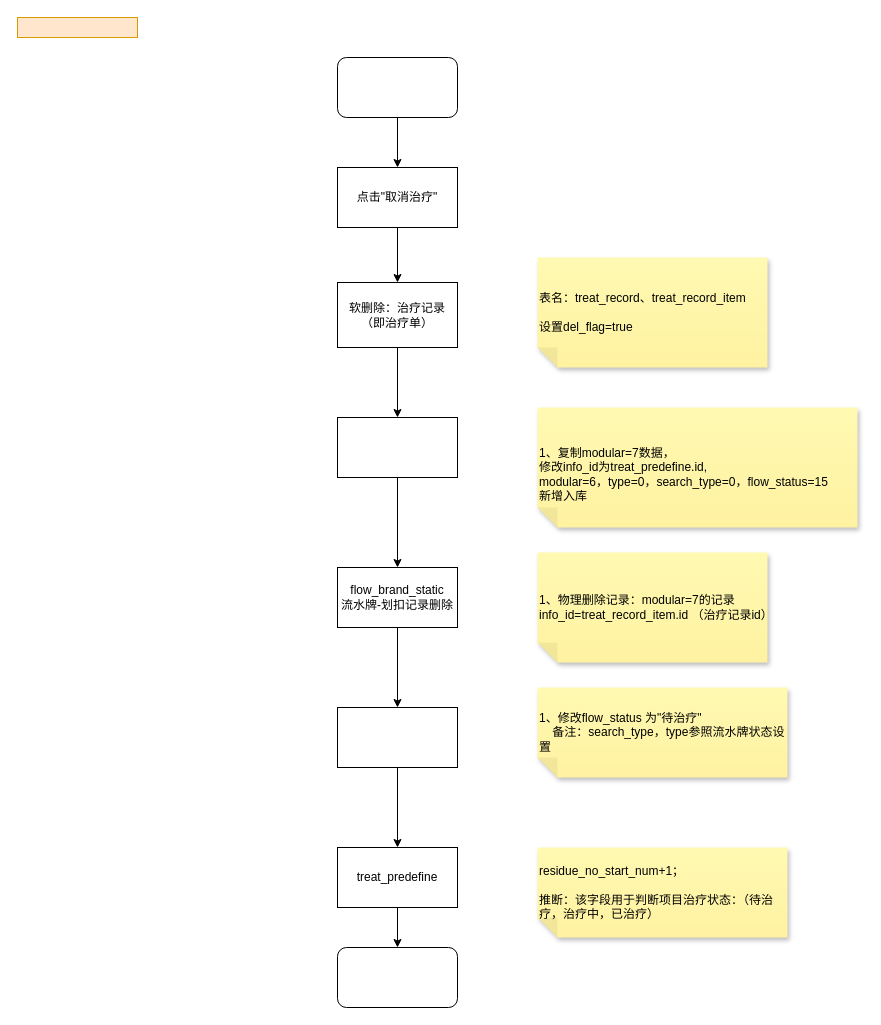
Image size: 881x1025. Some labels were removed from this diagram. The centre of each missing label's shape, as x and y in pixels:
flow_brand_static 批量修改今日接待产生的流水牌状态: the point at 397,737
flow_brand_static 流水牌-治疗新增一条 modular=6 记录: the point at 397,447
开始: the point at 397,87
点击"取消治疗"流程: the point at 77,27
结束: the point at 397,977
